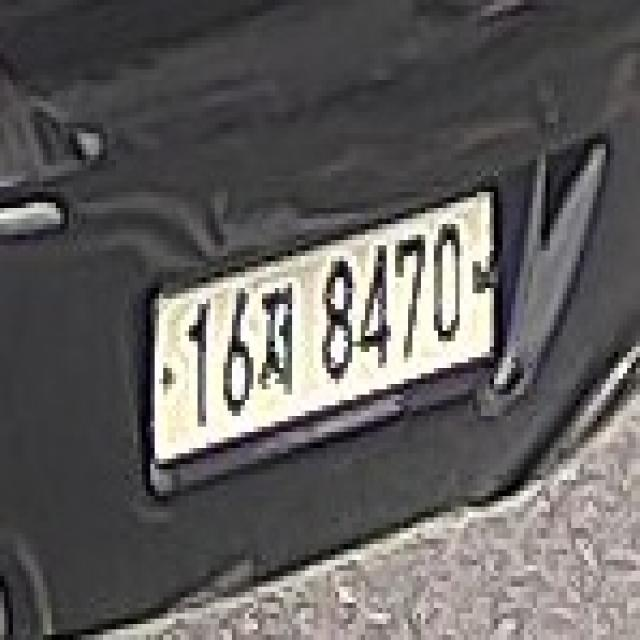0: (425, 213, 468, 352)
1: (180, 283, 215, 437)
4: (357, 229, 395, 384)
6: (219, 277, 258, 427)
7: (395, 224, 430, 373)
8: (318, 251, 356, 389)
jeo: (258, 277, 296, 411)
license_plate: (142, 176, 511, 507)
